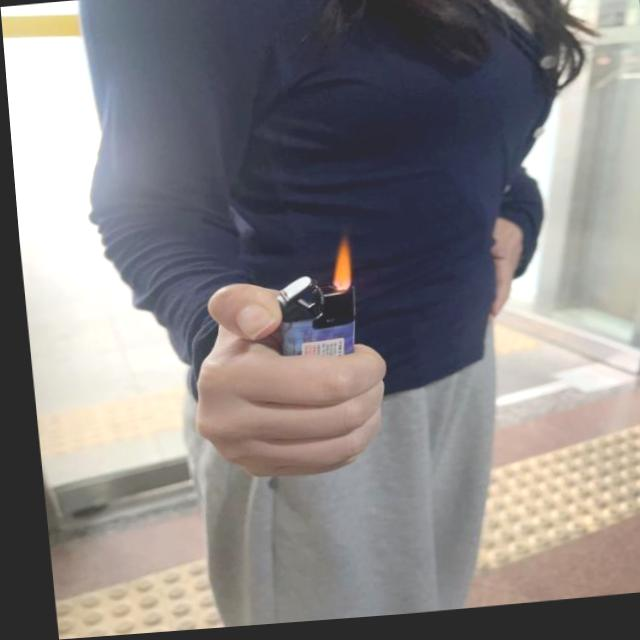Fire: (322, 246, 349, 295)
